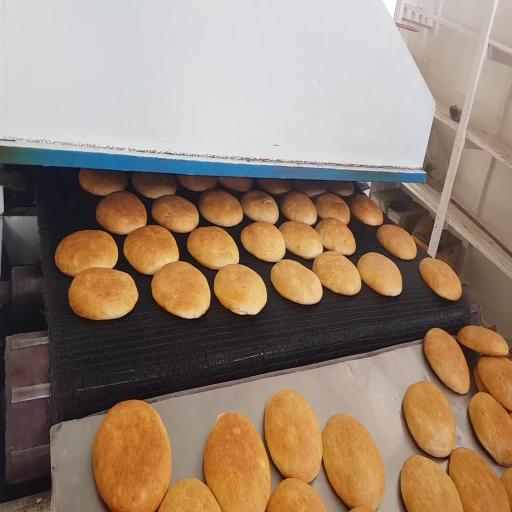bread: (92, 401, 171, 511), (204, 413, 270, 511), (323, 414, 385, 509), (264, 390, 322, 483), (403, 381, 456, 457), (449, 448, 510, 511), (68, 268, 138, 319), (401, 455, 464, 511), (152, 262, 210, 319), (468, 393, 511, 466), (424, 328, 470, 394), (55, 230, 118, 276), (124, 225, 179, 274), (214, 265, 267, 314), (271, 259, 322, 304), (96, 191, 147, 234), (187, 227, 239, 269), (313, 251, 361, 295), (159, 478, 220, 511), (267, 478, 327, 511), (357, 253, 402, 296), (477, 356, 512, 410), (420, 258, 462, 301), (152, 195, 199, 233), (241, 222, 285, 262), (279, 221, 323, 259), (199, 190, 243, 227), (458, 326, 508, 356), (316, 218, 355, 255), (377, 225, 416, 260), (79, 169, 127, 196), (241, 191, 279, 224), (281, 191, 317, 225), (132, 173, 176, 199), (314, 193, 350, 224), (350, 194, 383, 226), (177, 175, 216, 191), (293, 180, 326, 197), (258, 179, 291, 195), (218, 177, 253, 192), (501, 469, 511, 507), (474, 365, 488, 392), (327, 182, 353, 196), (350, 506, 374, 511)
